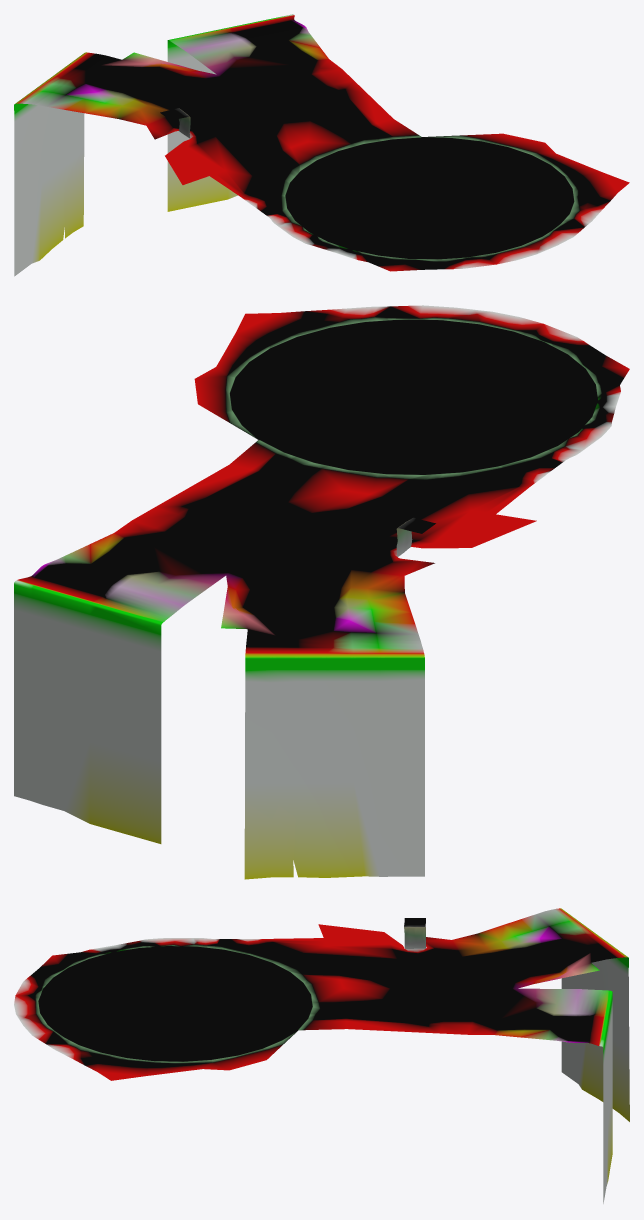
The picture shows the model from 3 angles, top to bottom: view 1: azimuth 30°, elevation 25°; view 2: azimuth 150°, elevation 25°; view 3: azimuth 270°, elevation 25°; orthographic projection. The views are drawn at different scales.
Visible parts, largest first — view 1: G:\FFXIV-MapTools\exports\d2f2\bg\ex1\02_dra_d2\fld\d2f2\bgp (×2); view 2: G:\FFXIV-MapTools\exports\d2f2\bg\ex1\02_dra_d2\fld\d2f2\bgp (×2); view 3: G:\FFXIV-MapTools\exports\d2f2\bg\ex1\02_dra_d2\fld\d2f2\bgp (×2).
Boxes of the visible parts, bbox=[...] form: G:\FFXIV-MapTools\exports\d2f2\bg\ex1\02_dra_d2\fld\d2f2\bgp (×2): bbox=[14, 14, 629, 276]; G:\FFXIV-MapTools\exports\d2f2\bg\ex1\02_dra_d2\fld\d2f2\bgp (×2): bbox=[14, 305, 629, 879]; G:\FFXIV-MapTools\exports\d2f2\bg\ex1\02_dra_d2\fld\d2f2\bgp (×2): bbox=[14, 908, 629, 1203].
Size of the model in its own units: 619 by 312 by 919.
